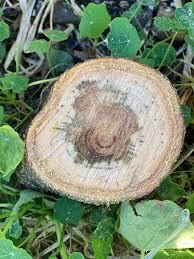Verticillium wilt: (66, 81, 137, 163)
